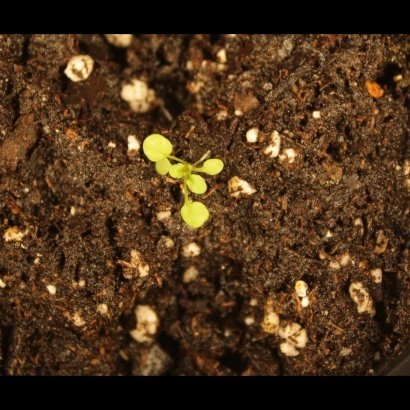leaf: (139, 131, 176, 163), (177, 199, 212, 230), (181, 170, 213, 197), (203, 156, 228, 179), (148, 156, 171, 179)
